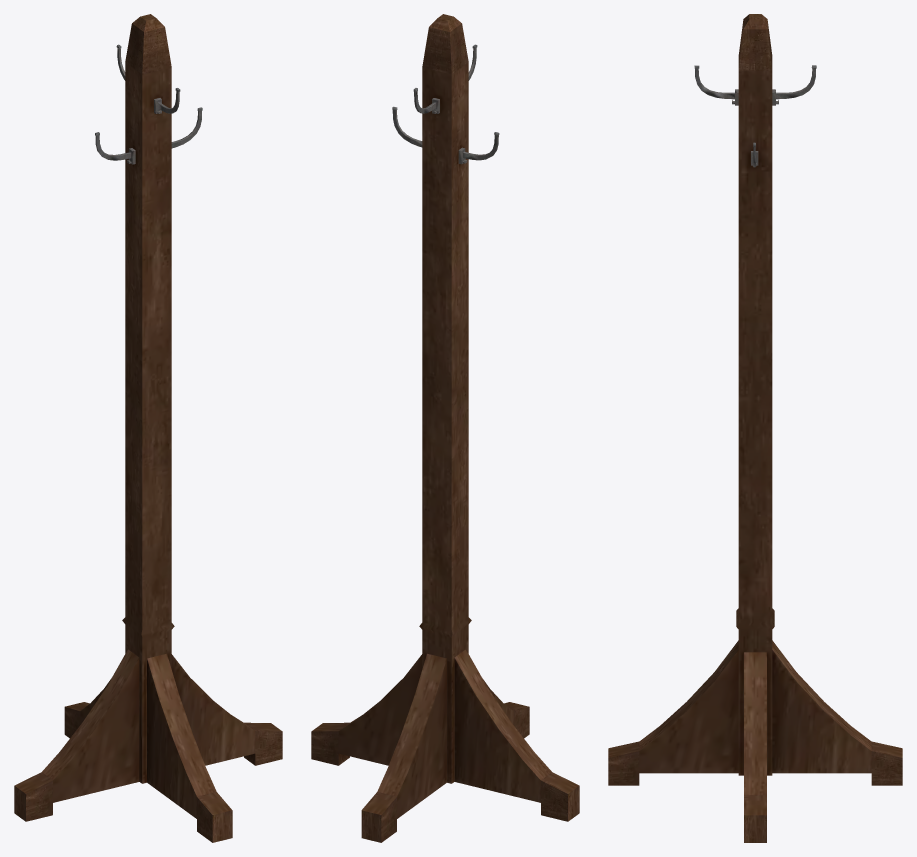
File: coat-rack.glb
The picture shows the model from 3 angles, left to right: view 1: azimuth 30°, elevation 25°; view 2: azimuth 150°, elevation 25°; view 3: azimuth 270°, elevation 25°; orthographic projection.
Visible parts, largest first — view 1: Object_2; view 2: Object_2; view 3: Object_2.
Part boxes in pixels (left/top/right/bottom): Object_2: left=14, top=14, right=282, bottom=842; Object_2: left=311, top=14, right=579, bottom=842; Object_2: left=608, top=14, right=902, bottom=842.
Size of the model in its own units: 0.6286 by 1.8 by 0.6286.
Materials: 1 (1 with a texture image).
